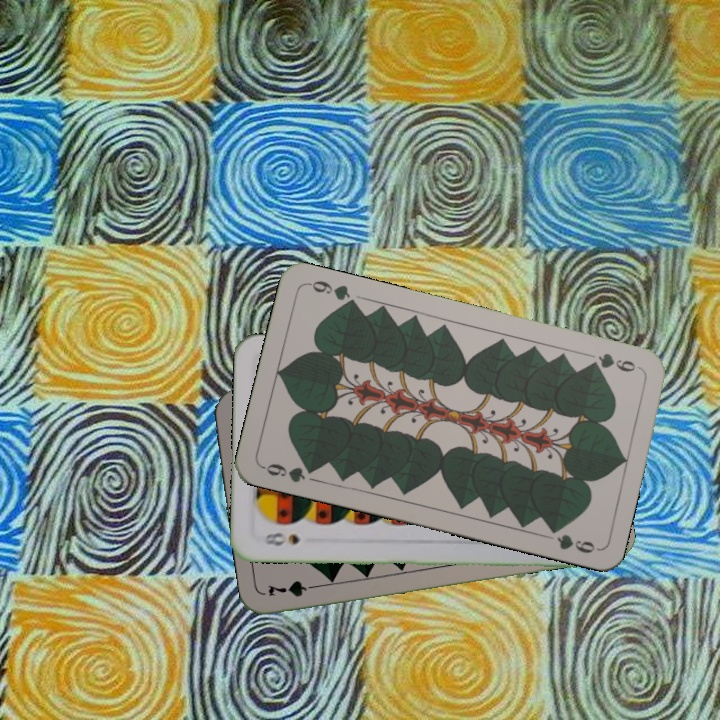G7: (264, 576, 323, 600)
G9: (258, 459, 319, 485), (584, 349, 643, 375)
S8: (259, 528, 302, 548)
